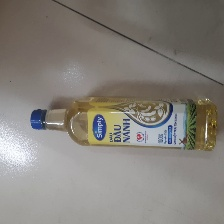Simply: (26, 93, 220, 153)
